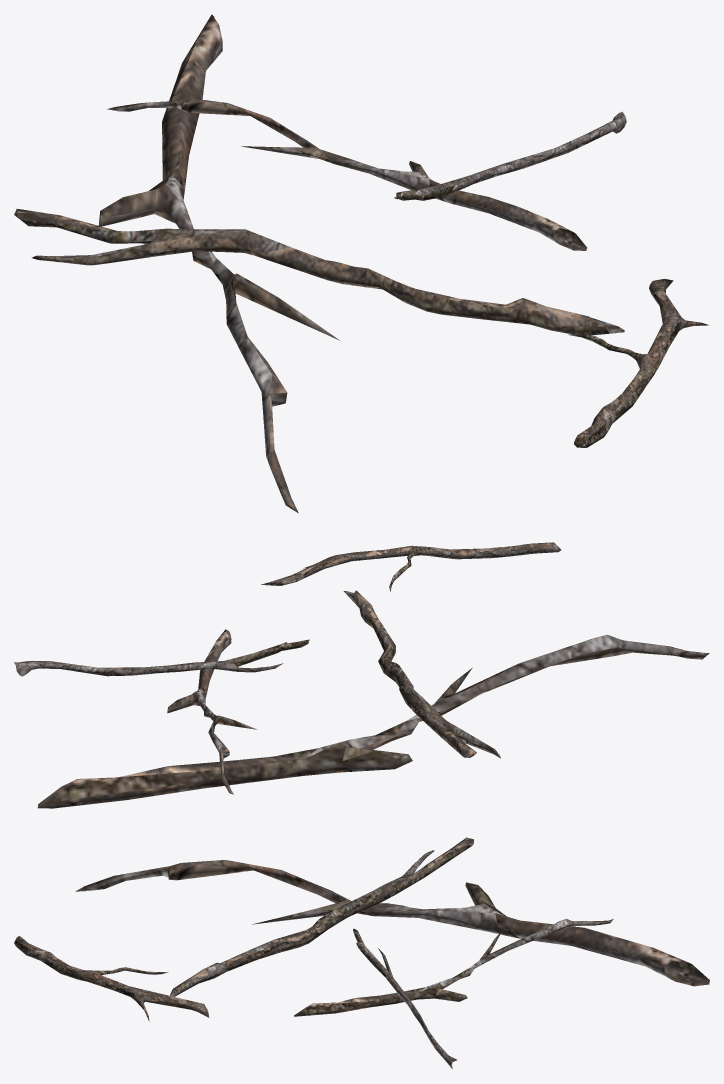
File: wasteland_branches_01_001_lod1.gltf
3 views of the same model, one above another, from view 1: azimuth 30°, elevation 25°; view 2: azimuth 150°, elevation 25°; view 3: azimuth 270°, elevation 25° (orthographic). The views are drawn at different scales.
Parts seen in each view (by area): view 1: Wasteland branches 01.001; view 2: Wasteland branches 01.001; view 3: Wasteland branches 01.001.
Boxes of the visible parts, <box> form: Wasteland branches 01.001: <box>14,14,708,513</box>; Wasteland branches 01.001: <box>14,542,709,808</box>; Wasteland branches 01.001: <box>14,837,709,1068</box>.
Bounding box in the file's own units: 0.2749 × 0.0404 × 0.4021.
Materials: 1 (1 with a texture image).
